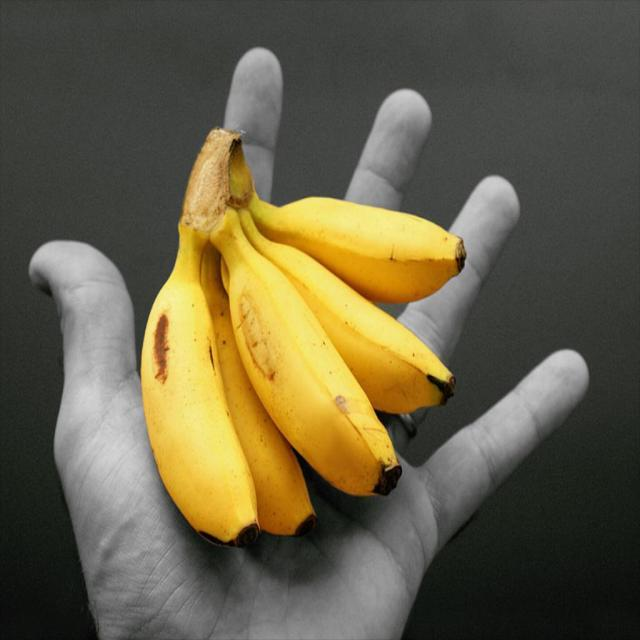banana: (211, 212, 402, 498), (140, 226, 261, 548), (246, 197, 468, 313)
